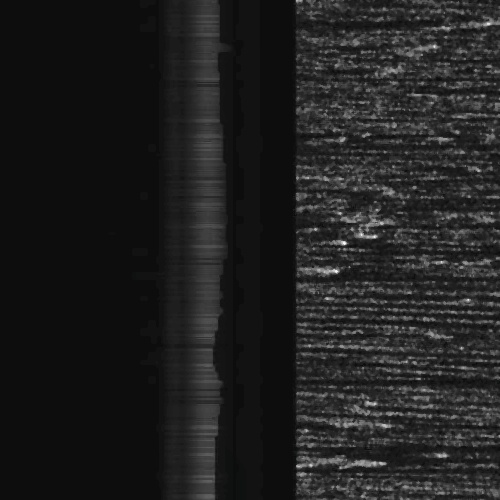shadow: (292, 245, 500, 254), (385, 192, 500, 203), (383, 375, 500, 382)
